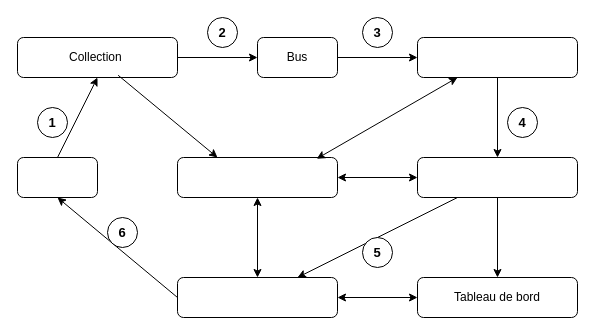
Some shapes in this 595 by 335 pixel diagram are drawn without their labels. Each missing label, with the centre of its shape:
API X: point (57, 177)
Classification: point (497, 177)
Database: point (257, 177)
Génération de réponse (LLM + RAG): point (257, 297)
Pré-traitement: point (497, 57)
